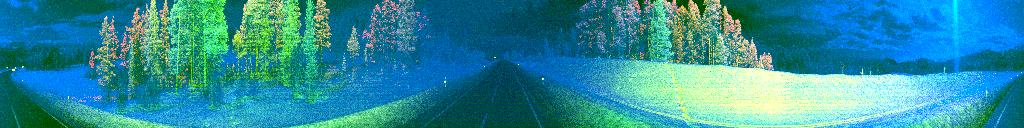pole: (984, 81, 990, 103), (66, 88, 70, 106), (443, 74, 447, 90), (541, 74, 545, 88)
